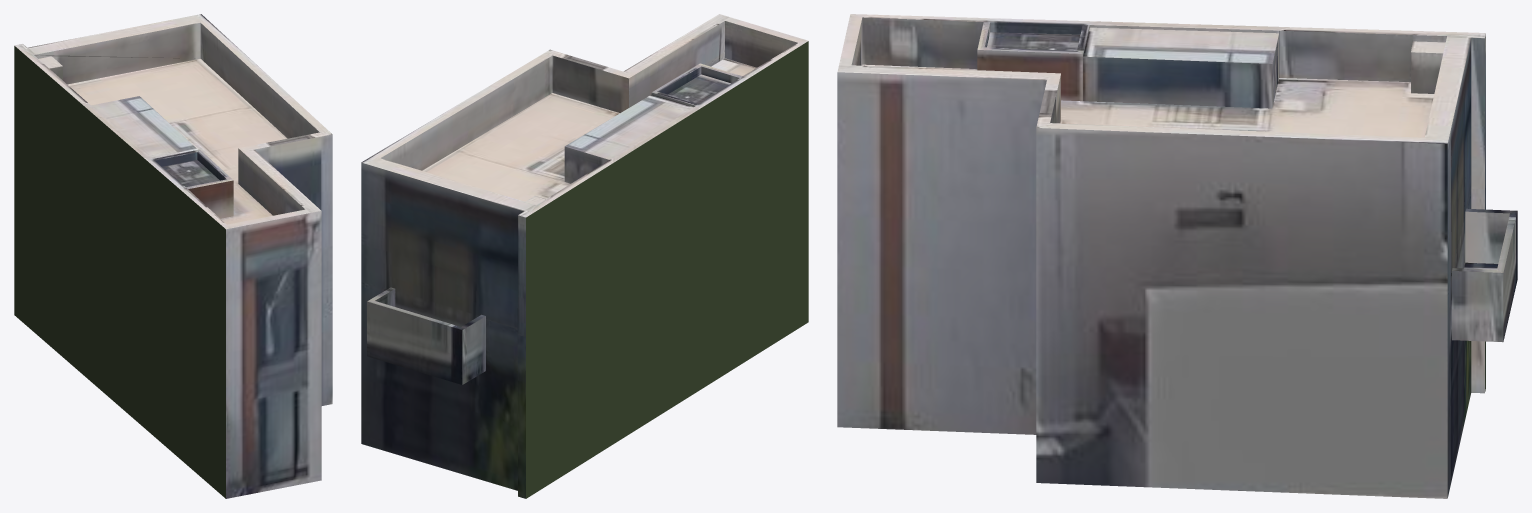
The picture shows the model from 3 angles, left to right: view 1: azimuth 30°, elevation 25°; view 2: azimuth 150°, elevation 25°; view 3: azimuth 270°, elevation 25°; orthographic projection. The views are drawn at different scales.
Visible parts, largest first — view 1: B283974038201062A0; view 2: B283974038201062A0; view 3: B283974038201062A0.
Part boxes in pixels (left/top/right/bottom): B283974038201062A0: left=14, top=14, right=332, bottom=498; B283974038201062A0: left=361, top=14, right=808, bottom=498; B283974038201062A0: left=837, top=14, right=1517, bottom=498.
Size of the model in its own units: 7.32 by 9.33 by 16.19.
1 material, 1 textured.
